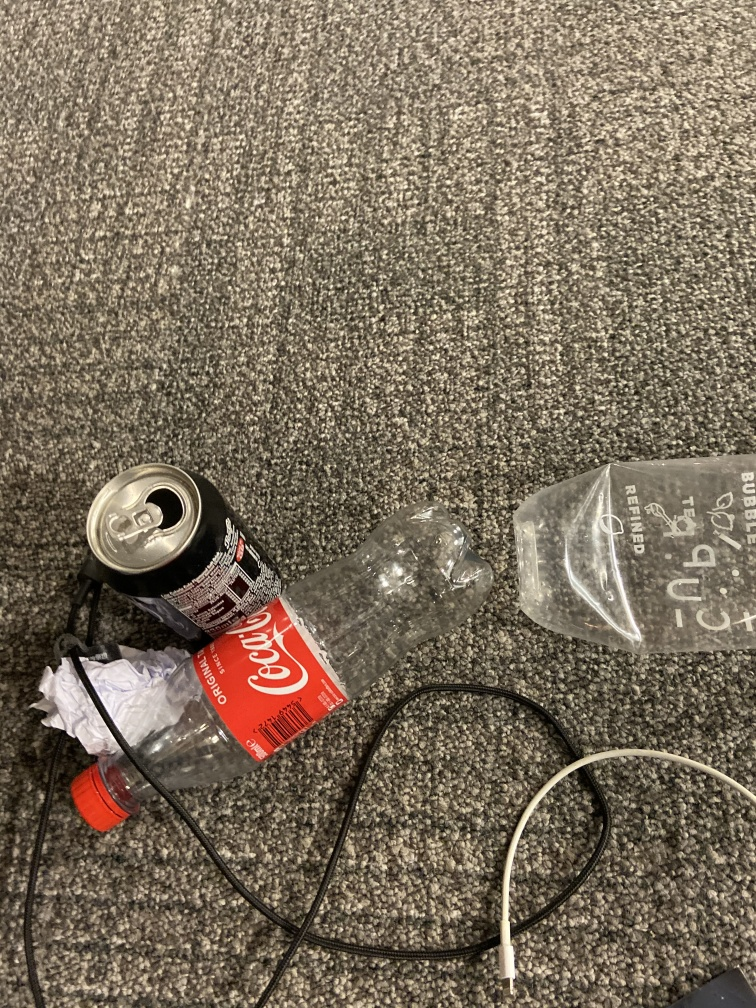bottle_red: (72, 504, 500, 835)
can_black: (85, 463, 298, 646)
paper_white: (36, 644, 209, 753)
